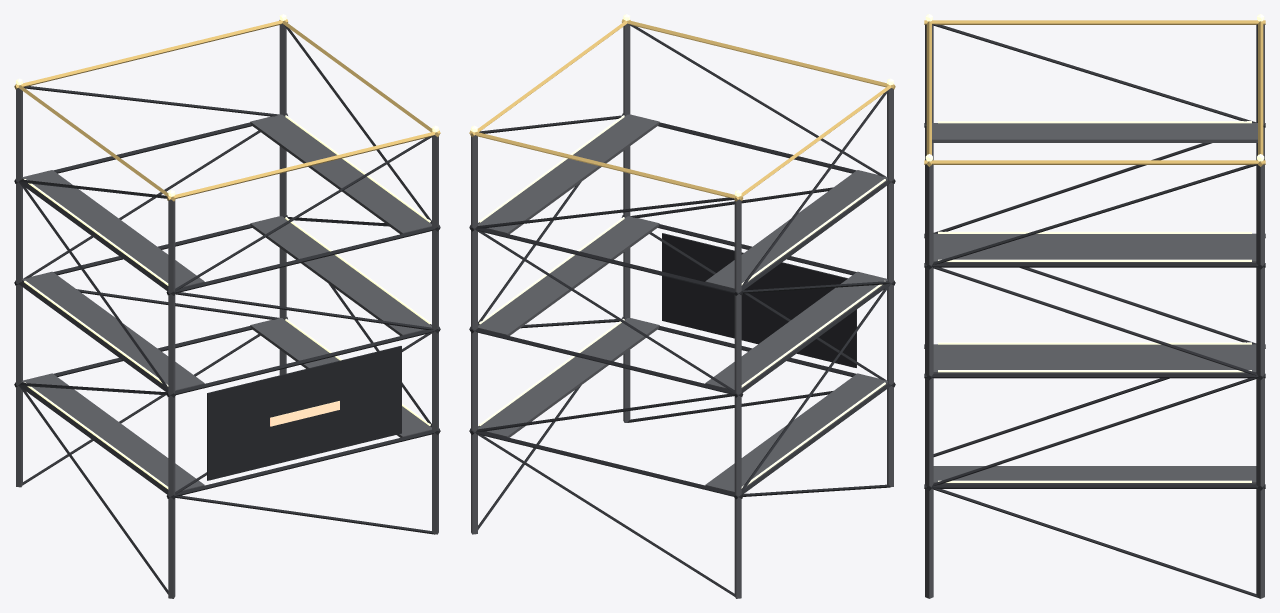
The model's file is Build_AegisScaffoldLarge.fbx.
3 renders of one model, left to right at view 1: azimuth 30°, elevation 25°; view 2: azimuth 150°, elevation 25°; view 3: azimuth 270°, elevation 25°, orthographic. The views are drawn at different scales.
Visible parts, largest first — view 1: BSL_Tarp, BSL_Deck21, BSL_Deck11, BSL_Deck0-1, BSL_Deck1-1, BSL_Deck2-1, BSL_Ring3, BSL_Post3, BSL_Ring2, BSL_Ring0, BSL_Ring1, BSL_Post2 (+14 smaller); view 2: BSL_Tarp, BSL_Deck11, BSL_Deck21, BSL_Deck01, BSL_Deck1-1, BSL_Deck0-1, BSL_Deck2-1, BSL_Ring3, BSL_Post1, BSL_Ring2, BSL_Ring1, BSL_Ring0 (+13 smaller); view 3: BSL_Deck2-1, BSL_Deck11, BSL_Deck01, BSL_Deck21, BSL_Ring3, BSL_Post2, BSL_Post0, BSL_Deck0-1, BSL_Deck1-1, BSL_Ring1, BSL_Ring2, BSL_Ring0 (+16 smaller).
Part boxes in pixels (box(x1,y1,x2,y2)): BSL_Tarp: box(207, 346, 401, 480); BSL_Deck21: box(250, 114, 431, 234); BSL_Deck11: box(250, 216, 431, 335); BSL_Deck0-1: box(22, 373, 204, 491); BSL_Deck1-1: box(22, 271, 204, 390); BSL_Deck2-1: box(22, 170, 204, 288); BSL_Ring3: box(14, 19, 440, 201); BSL_Post3: box(168, 199, 175, 598); BSL_Ring2: box(14, 113, 440, 295); BSL_Ring0: box(14, 317, 440, 499); BSL_Ring1: box(14, 215, 440, 397); BSL_Post2: box(432, 135, 438, 534); BSL_Tarp: box(662, 233, 856, 367); BSL_Deck11: box(478, 216, 659, 335); BSL_Deck21: box(478, 114, 659, 234); BSL_Deck01: box(478, 318, 659, 437); BSL_Deck1-1: box(705, 271, 887, 389); BSL_Deck0-1: box(705, 373, 887, 492); BSL_Deck2-1: box(705, 170, 887, 288); BSL_Ring3: box(469, 19, 895, 201); BSL_Post1: box(734, 199, 741, 598); BSL_Ring2: box(469, 113, 895, 295); BSL_Ring1: box(469, 215, 895, 397); BSL_Ring0: box(469, 317, 895, 499); BSL_Deck2-1: box(932, 123, 1257, 142); BSL_Deck11: box(933, 355, 1256, 373); BSL_Deck01: box(933, 466, 1256, 484); BSL_Deck21: box(933, 244, 1256, 262); BSL_Ring3: box(924, 20, 1265, 166); BSL_Post2: box(925, 164, 933, 598); BSL_Post0: box(1256, 164, 1264, 598); BSL_Deck0-1: box(933, 344, 1256, 355); BSL_Deck1-1: box(933, 233, 1256, 244); BSL_Ring1: box(924, 233, 1265, 380); BSL_Ring2: box(924, 123, 1265, 269); BSL_Ring0: box(924, 344, 1265, 490).
Bounding box in the file's own units: 3.91 × 5.63 × 3.91.
